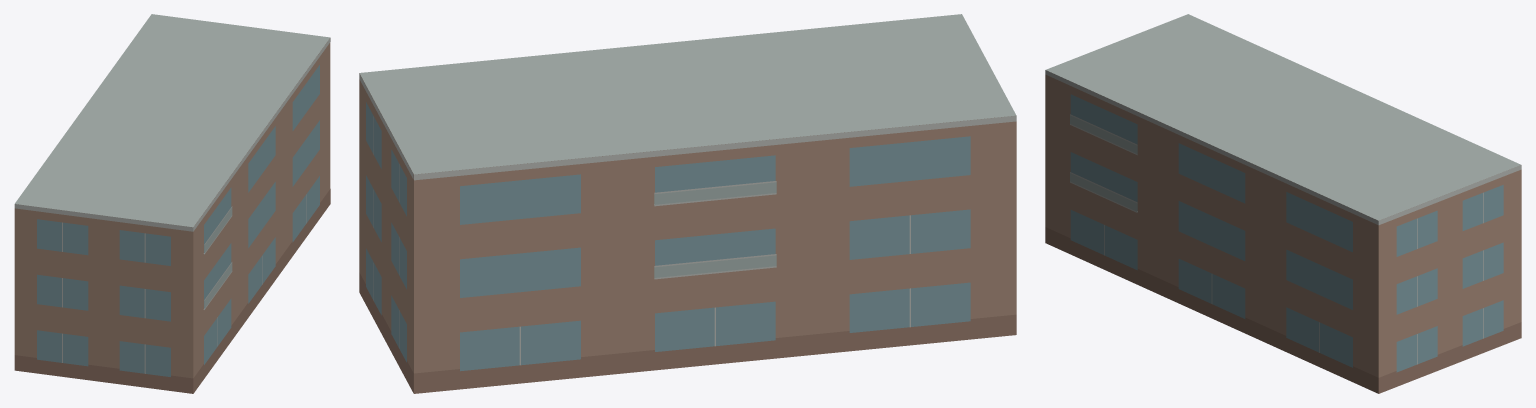
File: survey-upis-32914367.glb
3 renders of one model, left to right at view 1: azimuth 30°, elevation 25°; view 2: azimuth 150°, elevation 25°; view 3: azimuth 270°, elevation 25°, orthographic. The views are drawn at different scales.
Visible parts, largest first — view 1: survey-upis-32914367.tmp; view 2: survey-upis-32914367.tmp; view 3: survey-upis-32914367.tmp.
Boxes of the visible parts, x1,y1,x2,y2 form: survey-upis-32914367.tmp: (14, 14, 330, 393); survey-upis-32914367.tmp: (359, 14, 1016, 393); survey-upis-32914367.tmp: (1045, 14, 1521, 393).
Size of the model in its own units: 23.43 by 9.15 by 22.8.
